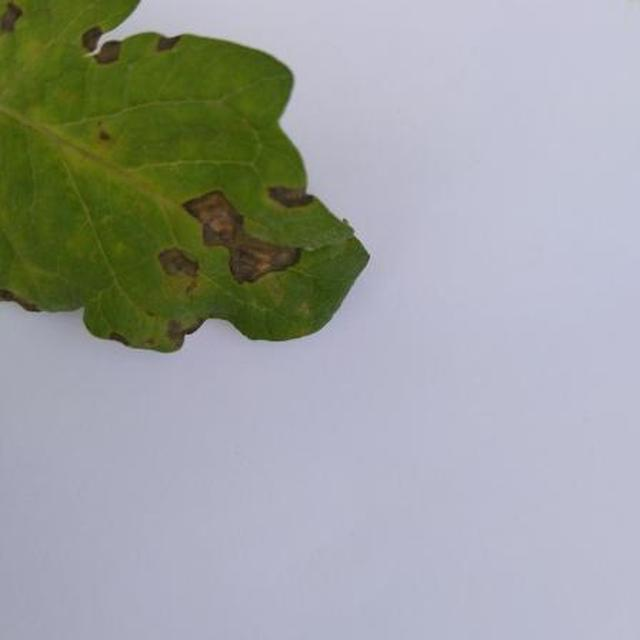Early Blight Leaf: (0, 0, 533, 504)
